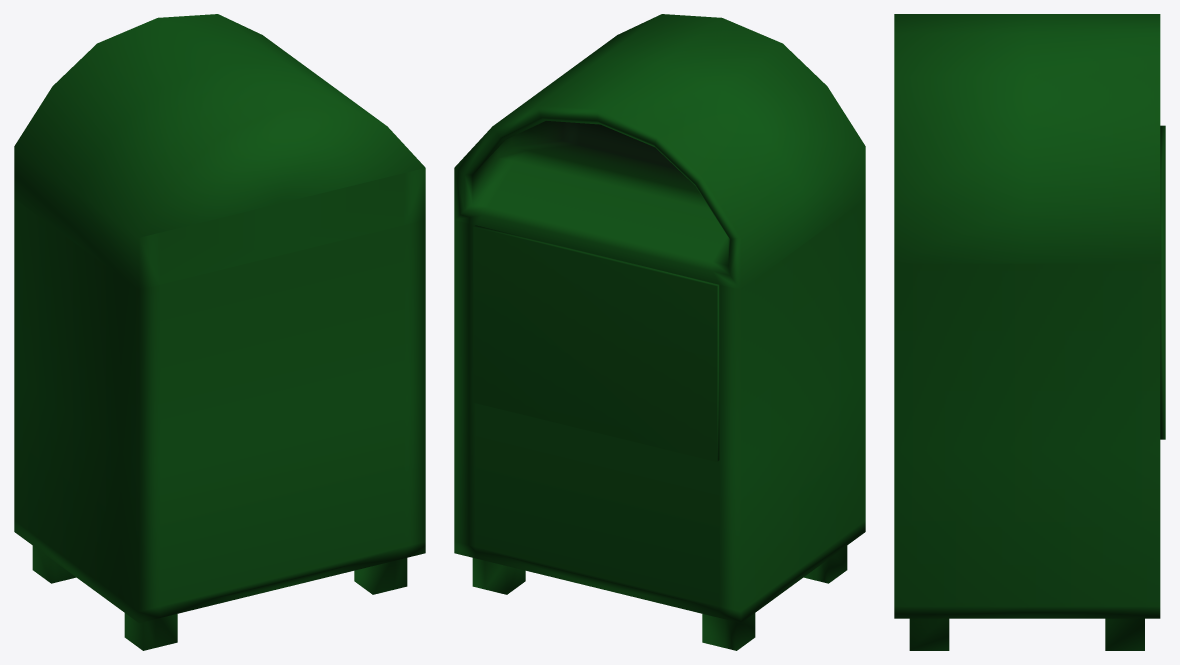
The model's file is CNJ_ClothBox_SM.fbx.
3 renders of one model, left to right at view 1: azimuth 30°, elevation 25°; view 2: azimuth 150°, elevation 25°; view 3: azimuth 270°, elevation 25°, orthographic. The views are drawn at different scales.
Parts seen in each view (by area): view 1: CNJ_ClothBox_SM; view 2: CNJ_ClothBox_SM; view 3: CNJ_ClothBox_SM.
Part boxes in pixels (x1=…): CNJ_ClothBox_SM: x1=14, y1=14, x2=425, y2=650; CNJ_ClothBox_SM: x1=454, y1=14, x2=865, y2=650; CNJ_ClothBox_SM: x1=894, y1=14, x2=1165, y2=650.
Size of the model in its own units: 78.48 by 135 by 60.35.
